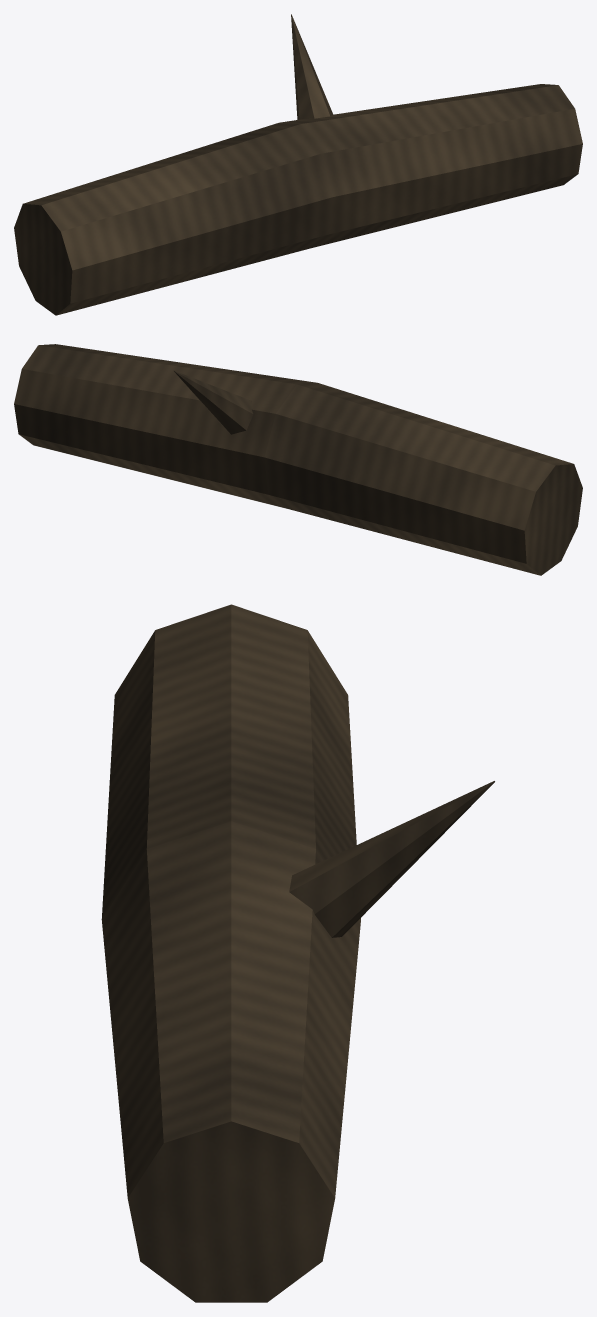
File: Fallen_Log.glb
The picture shows the model from 3 angles, top to bottom: view 1: azimuth 30°, elevation 25°; view 2: azimuth 150°, elevation 25°; view 3: azimuth 270°, elevation 25°; orthographic projection. The views are drawn at different scales.
Parts seen in each view (by area): view 1: Fallen_Log; view 2: Fallen_Log; view 3: Fallen_Log.
Boxes of the visible parts, x1,y1,x2,y2 form: Fallen_Log: [14, 14, 582, 315]; Fallen_Log: [14, 344, 582, 575]; Fallen_Log: [101, 604, 494, 1302].
Size of the model in its own units: 1.82 by 0.5697 by 0.5976.
1 material, 1 textured.
